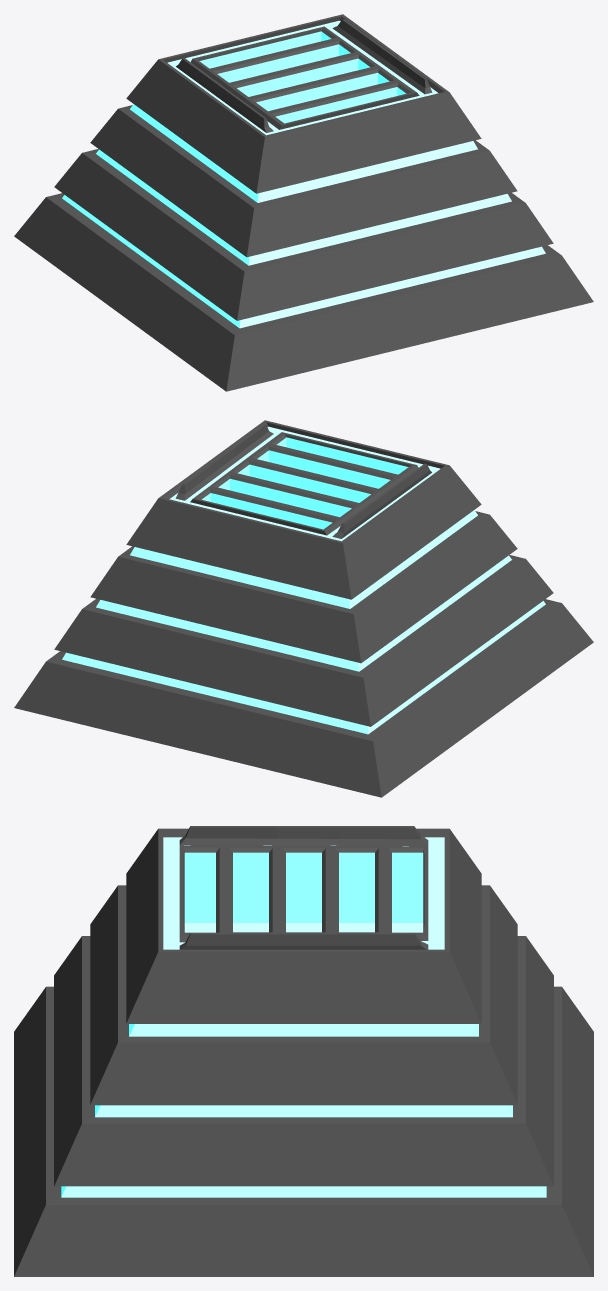
The model's file is Altar Activated.fbx.
The picture shows the model from 3 angles, top to bottom: view 1: azimuth 30°, elevation 25°; view 2: azimuth 150°, elevation 25°; view 3: azimuth 270°, elevation 25°; orthographic projection. The views are drawn at different scales.
Visible parts, largest first — view 1: Altar; view 2: Altar; view 3: Altar.
Part boxes in pixels (box(x1,y1,x2,y2)): Altar: box(14, 14, 593, 391); Altar: box(14, 420, 593, 797); Altar: box(14, 826, 593, 1276).
Size of the model in its own units: 398 by 398 by 208.
